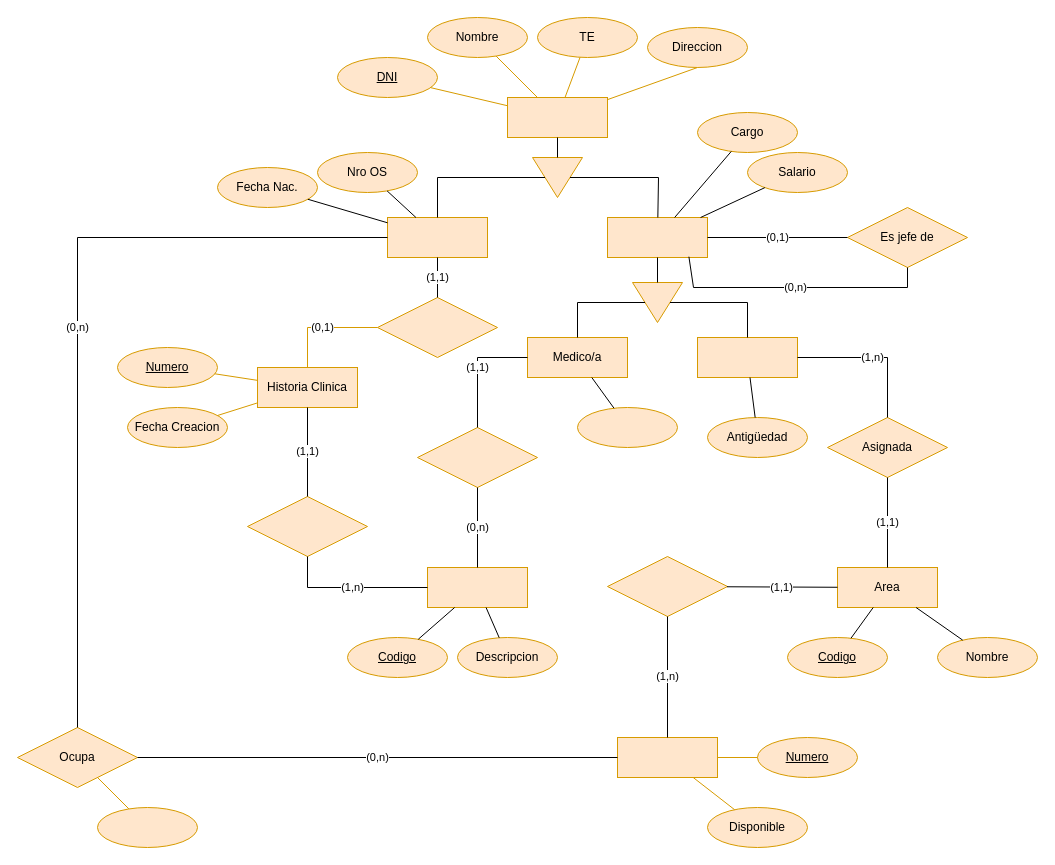
This 1055x865 diagram has some shape labels left out. The centre of each missing label's shape, as x and y in pixels:
"Cama" belongs at pixel 667 757.
"Contiene" belongs at pixel 307 526.
"Diagnostico" belongs at pixel 477 587.
"Empleado" belongs at pixel 657 237.
"Enfermera/o" belongs at pixel 747 357.
"Especialidad" belongs at pixel 627 427.
"Fecha Asignacion" belongs at pixel 147 827.
"Formula" belongs at pixel 477 457.
"Paciente" belongs at pixel 437 237.
"Persona" belongs at pixel 557 117.
"Pertenece" belongs at pixel 667 586.
"Tiene" belongs at pixel 437 327.
